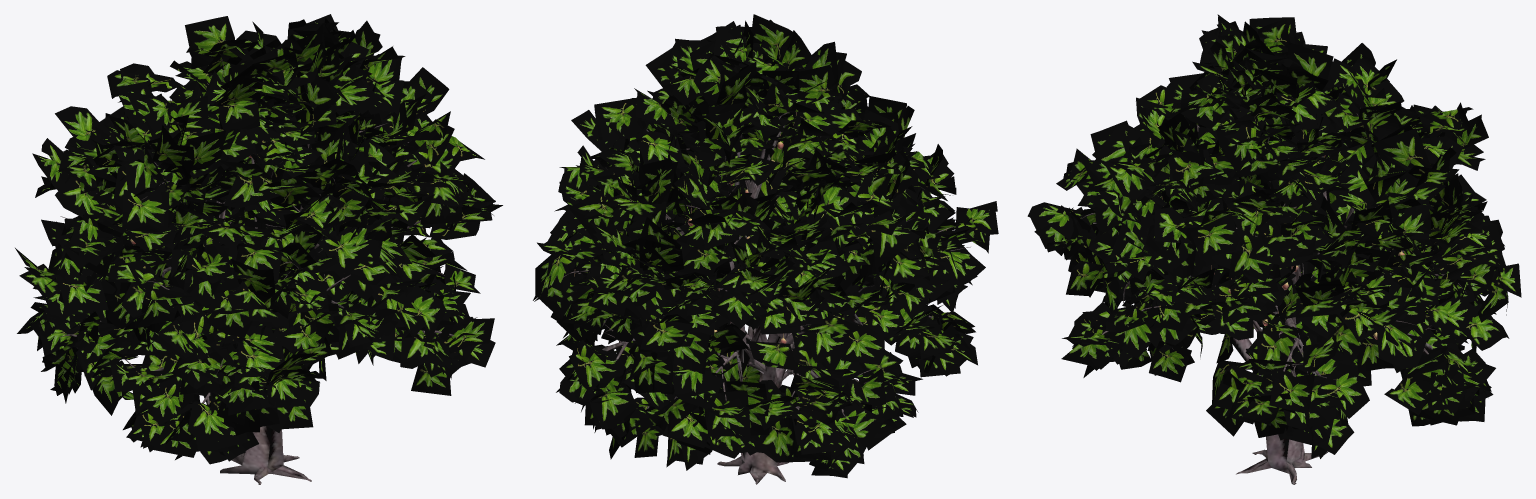
File: mango_tree.lod2.glb
The picture shows the model from 3 angles, left to right: view 1: azimuth 30°, elevation 25°; view 2: azimuth 150°, elevation 25°; view 3: azimuth 270°, elevation 25°; orthographic projection. The views are drawn at different scales.
Visible parts, largest first — view 1: leaves_Material.001_0, tree_Material.002_0; view 2: leaves_Material.001_0, tree_Material.002_0; view 3: leaves_Material.001_0, tree_Material.002_0.
Part boxes in pixels (left/top/right/bottom): leaves_Material.001_0: left=15, top=14, right=502, bottom=464; tree_Material.002_0: left=59, top=59, right=454, bottom=484; leaves_Material.001_0: left=533, top=14, right=998, bottom=478; tree_Material.002_0: left=559, top=110, right=970, bottom=484; leaves_Material.001_0: left=1027, top=14, right=1521, bottom=458; tree_Material.002_0: left=1081, top=107, right=1465, bottom=484.
Size of the model in its own units: 6.73 by 6.97 by 6.98.
3 materials, 3 textured.
